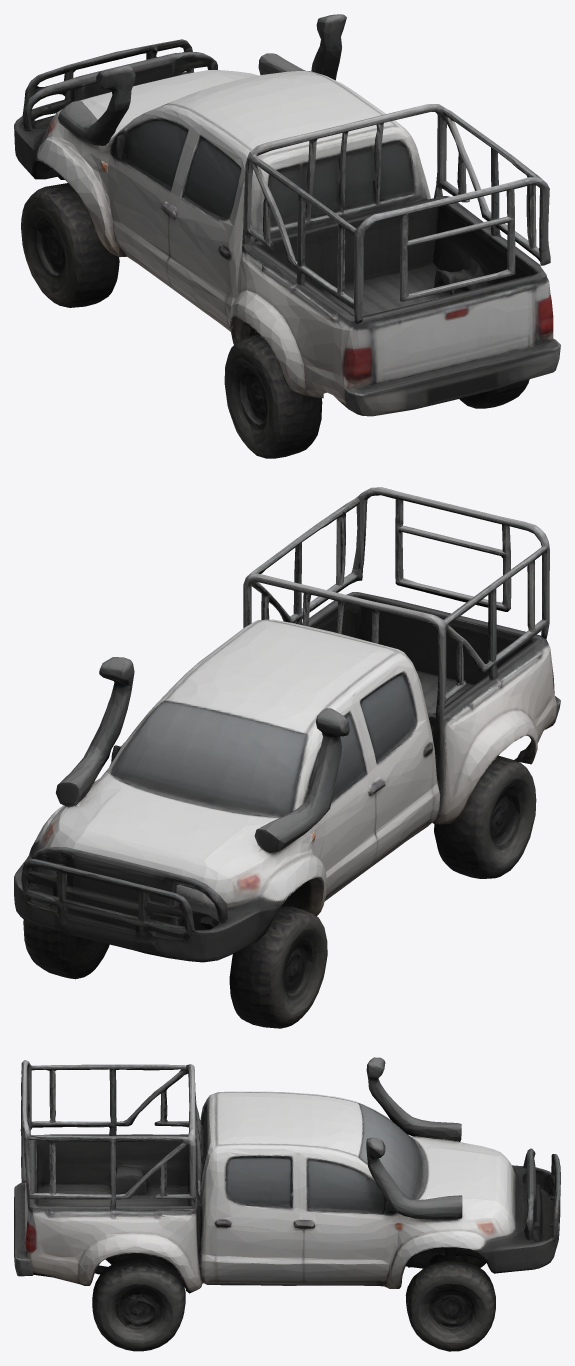
File: boks_pickup.glb
3 renders of one model, top to bottom at view 1: azimuth 30°, elevation 25°; view 2: azimuth 150°, elevation 25°; view 3: azimuth 270°, elevation 25°, orthographic. The views are drawn at different scales.
Parts seen in each view (by area): view 1: world; view 2: world; view 3: world.
Boxes of the visible parts, x1,y1,x2,y2 form: world: [14, 14, 560, 458]; world: [14, 487, 560, 1028]; world: [14, 1057, 560, 1351].
Size of the model in its own units: 0.4264 by 0.4445 by 0.9998.
1 material, 1 textured.
